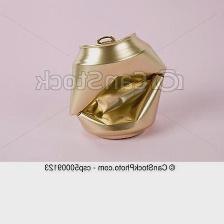can: (60, 27, 171, 148)
